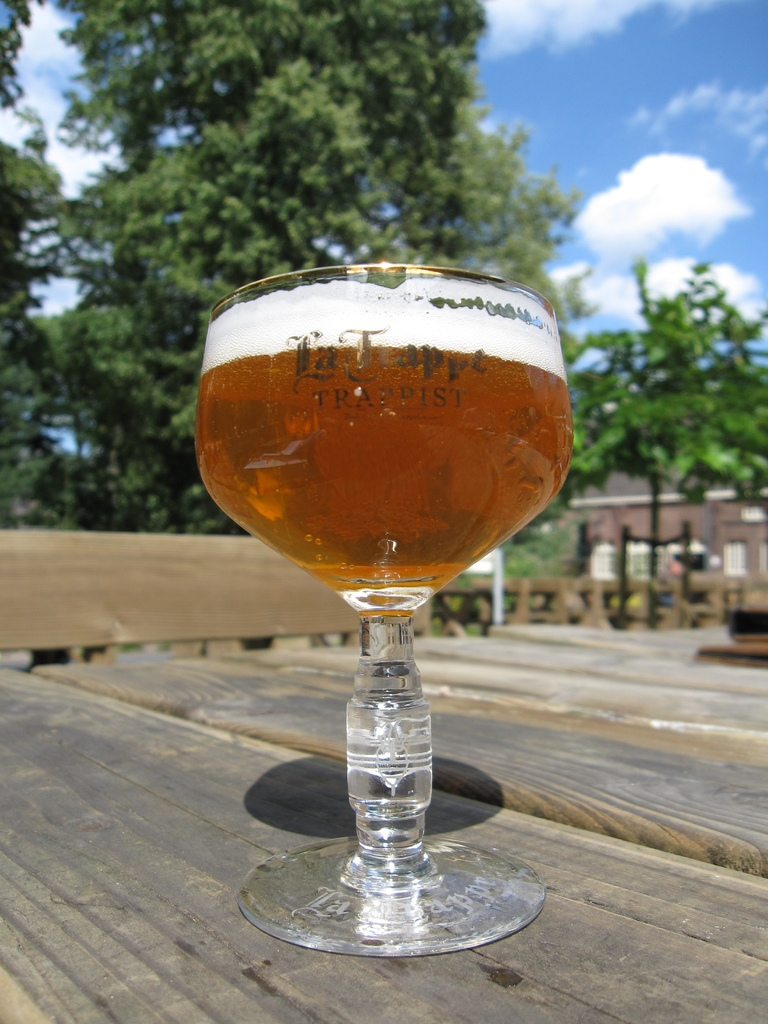Beer: (186, 245, 587, 952)
